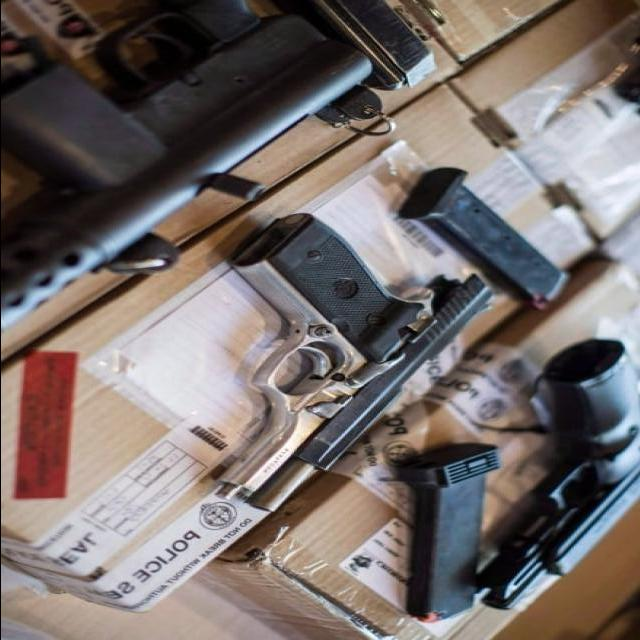pistol: (208, 200, 482, 515), (480, 338, 640, 603)
